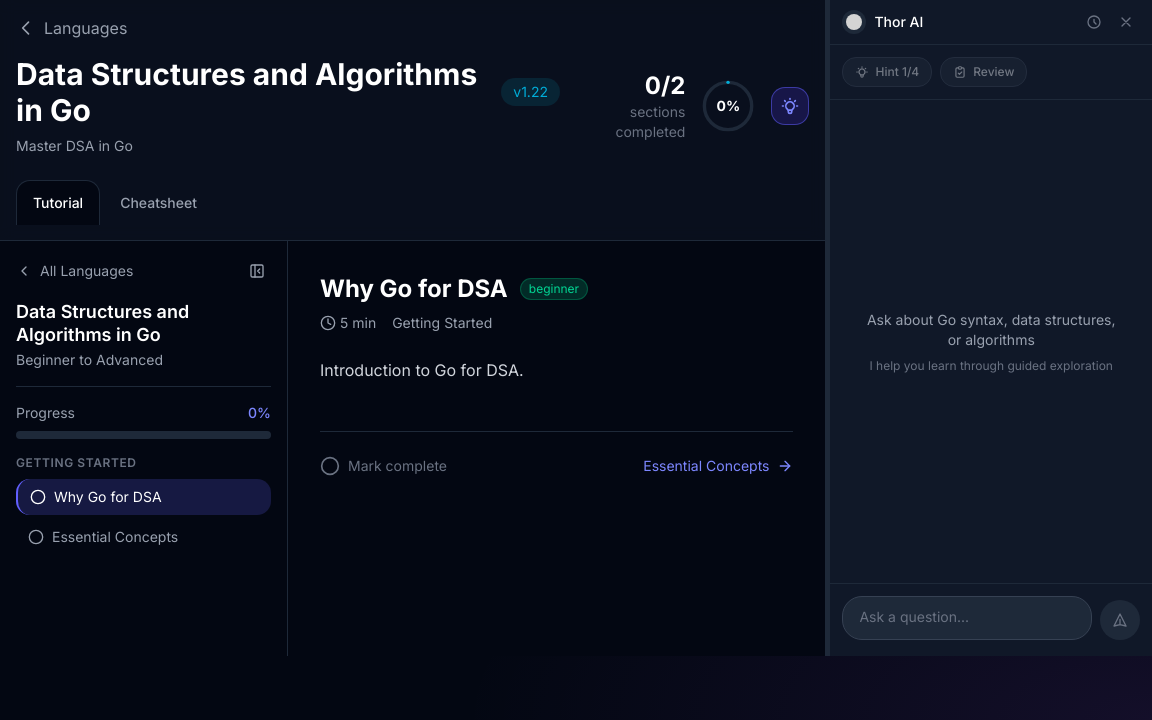
LanguageGuideClient › Progress Tracking › tracks completed sections count
The image size is (1152, 720).
Expected: the text "0/2" is shown, x1=645 y1=71 x2=685 y2=100
Click the button "Mark complete".
click(384, 466)  # box x1=320 y1=456 x2=447 y2=476
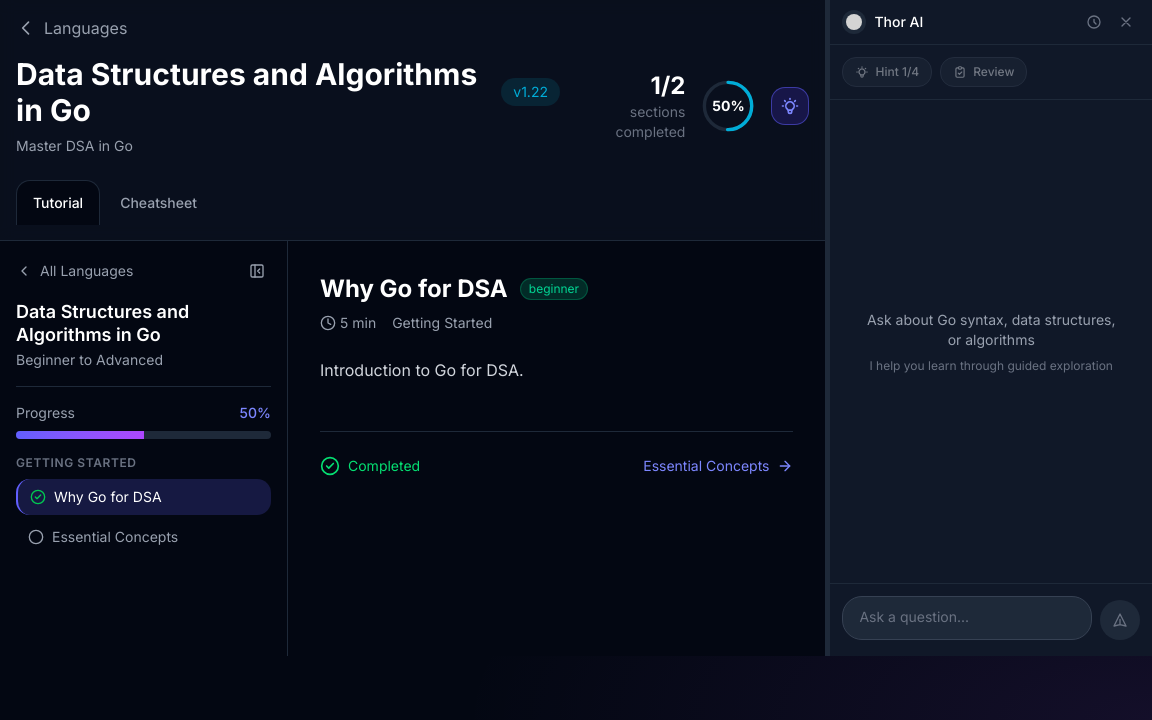
Now the text "1/2" is shown, box x1=651 y1=71 x2=685 y2=100
